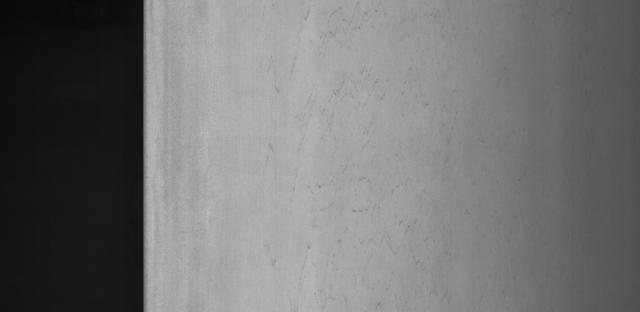silk_spot: (258, 0, 427, 242)
